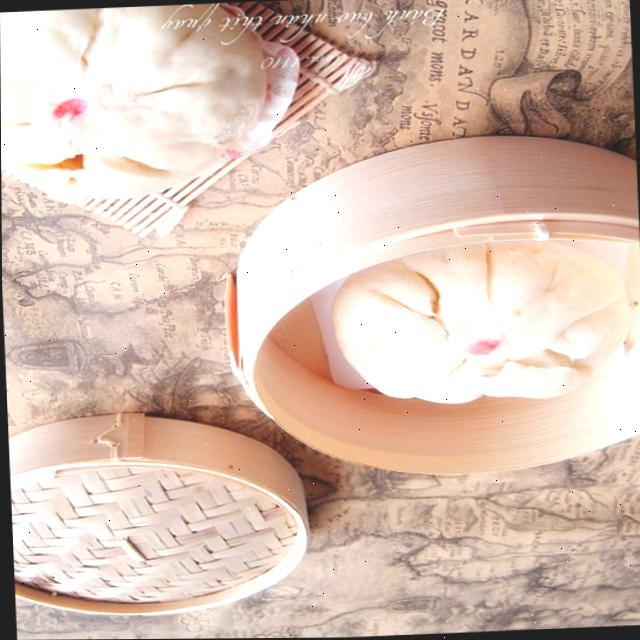带馅早点: (210, 92, 607, 478)
